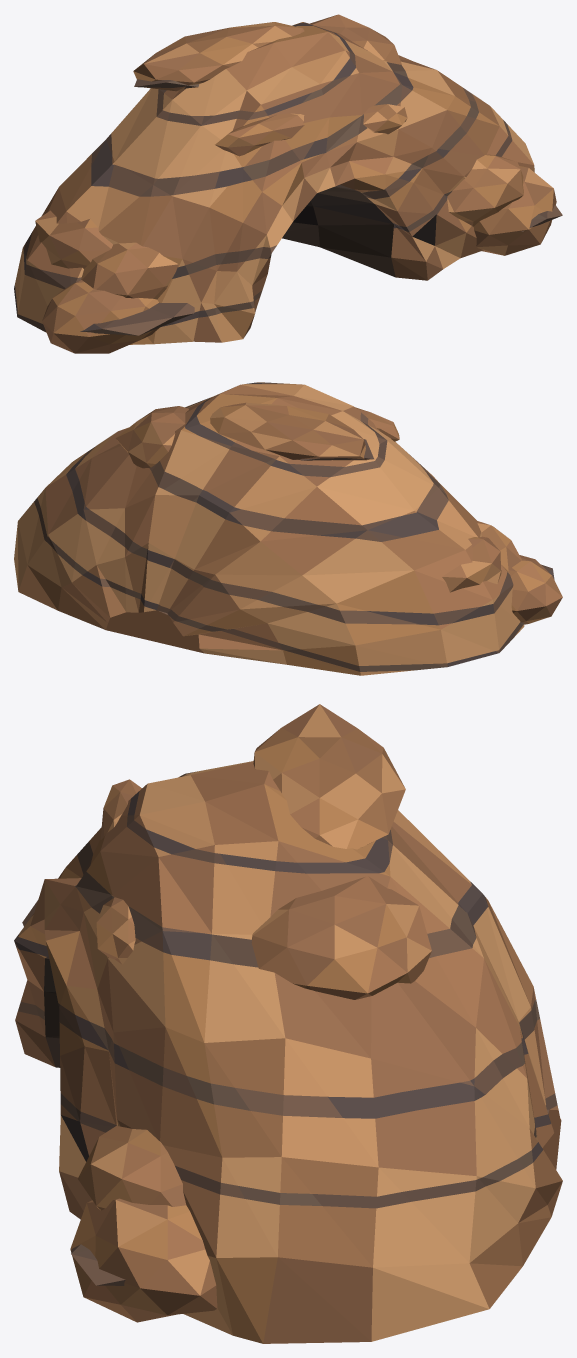
The model's file is wsc-prop-011-cave-rock-module.glb.
The picture shows the model from 3 angles, top to bottom: view 1: azimuth 30°, elevation 25°; view 2: azimuth 150°, elevation 25°; view 3: azimuth 270°, elevation 25°; orthographic projection. The views are drawn at different scales.
Visible parts, largest first — view 1: Cave • continuous carved portal, lined interior and rear, Cave • chipped shelves and graphite ledges; view 2: Cave • continuous carved portal, lined interior and rear, Cave • chipped shelves and graphite ledges; view 3: Cave • continuous carved portal, lined interior and rear, Cave • chipped shelves and graphite ledges.
Boxes of the visible parts, box(x1,y1,x2,y2) form: Cave • continuous carved portal, lined interior and rear: box(14, 22, 534, 344); Cave • chipped shelves and graphite ledges: box(35, 14, 562, 353); Cave • continuous carved portal, lined interior and rear: box(14, 382, 524, 675); Cave • chipped shelves and graphite ledges: box(115, 402, 562, 624); Cave • continuous carved portal, lined interior and rear: box(14, 761, 562, 1343); Cave • chipped shelves and graphite ledges: box(22, 704, 431, 1322).
Size of the model in its own units: 7.38 by 3.03 by 4.07.
